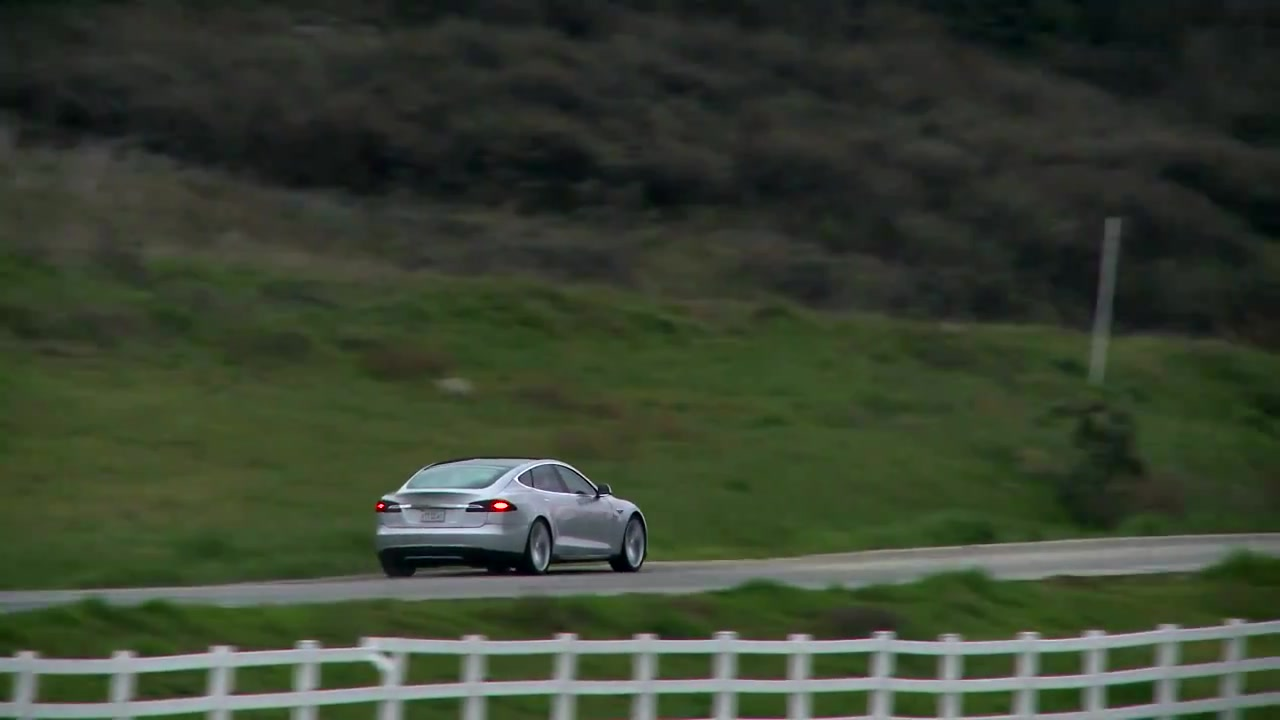car: (372, 454, 655, 582)
